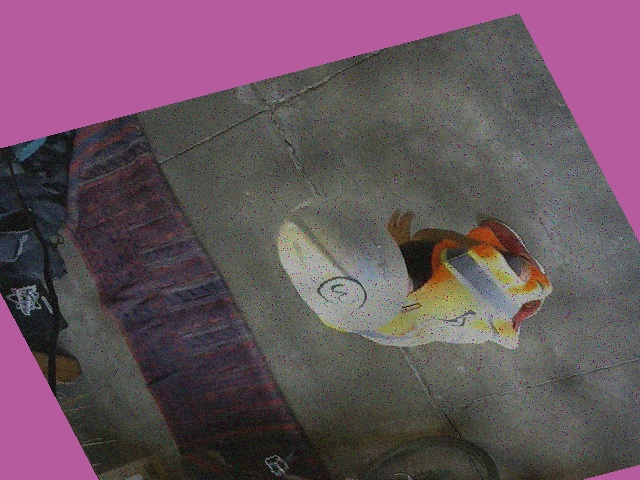three: (312, 272, 370, 315)
